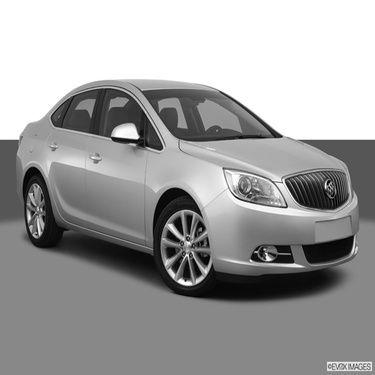car: (10, 73, 365, 302)
